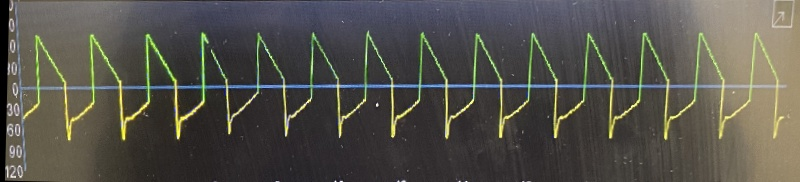peepi: (21, 25, 786, 143)
